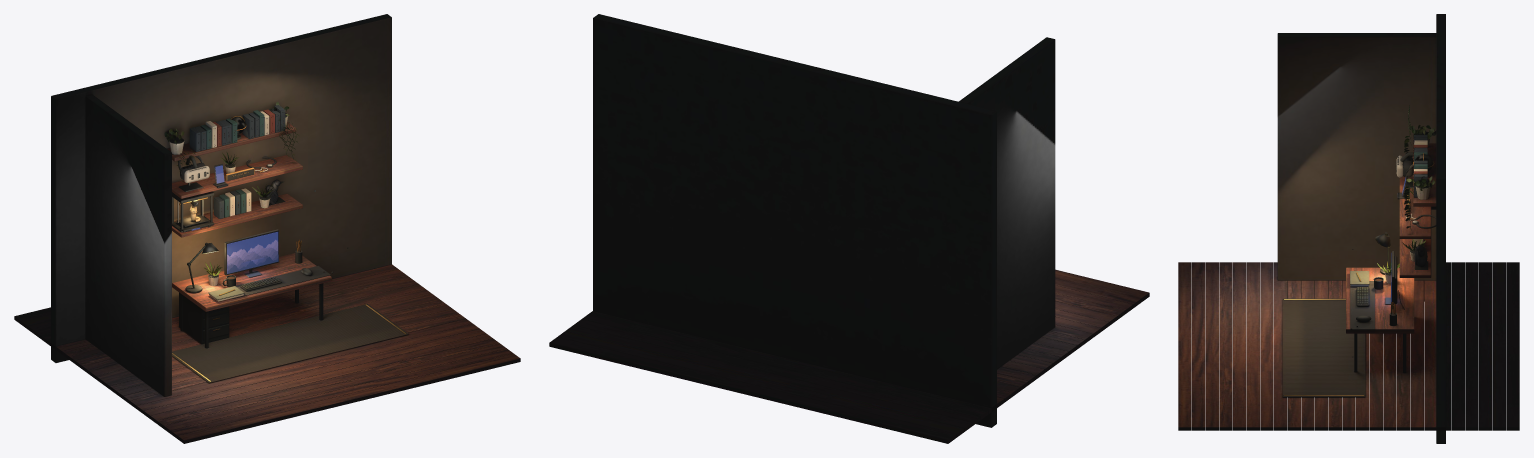
Rendered from office-mobile.glb.
3 renders of one model, left to right at view 1: azimuth 30°, elevation 25°; view 2: azimuth 150°, elevation 25°; view 3: azimuth 270°, elevation 25°, orthographic. The views are drawn at different scales.
Visible parts, largest first — view 1: architecture, furniture, projects, design, vr; view 2: architecture; view 3: architecture, furniture, vr, projects.
Boxes of the visible parts, bbox=[...] form: architecture: bbox=[14, 14, 520, 443]; furniture: bbox=[164, 102, 406, 381]; projects: bbox=[224, 229, 279, 277]; design: bbox=[172, 191, 214, 232]; vr: bbox=[178, 156, 209, 191]; architecture: bbox=[549, 14, 1149, 443]; architecture: bbox=[1178, 14, 1519, 443]; furniture: bbox=[1284, 105, 1436, 395]; vr: bbox=[1395, 152, 1413, 188]; projects: bbox=[1385, 251, 1404, 309].
Size of the model in its own units: 8 by 6.1 by 6.99.
7 materials, 7 textured.
